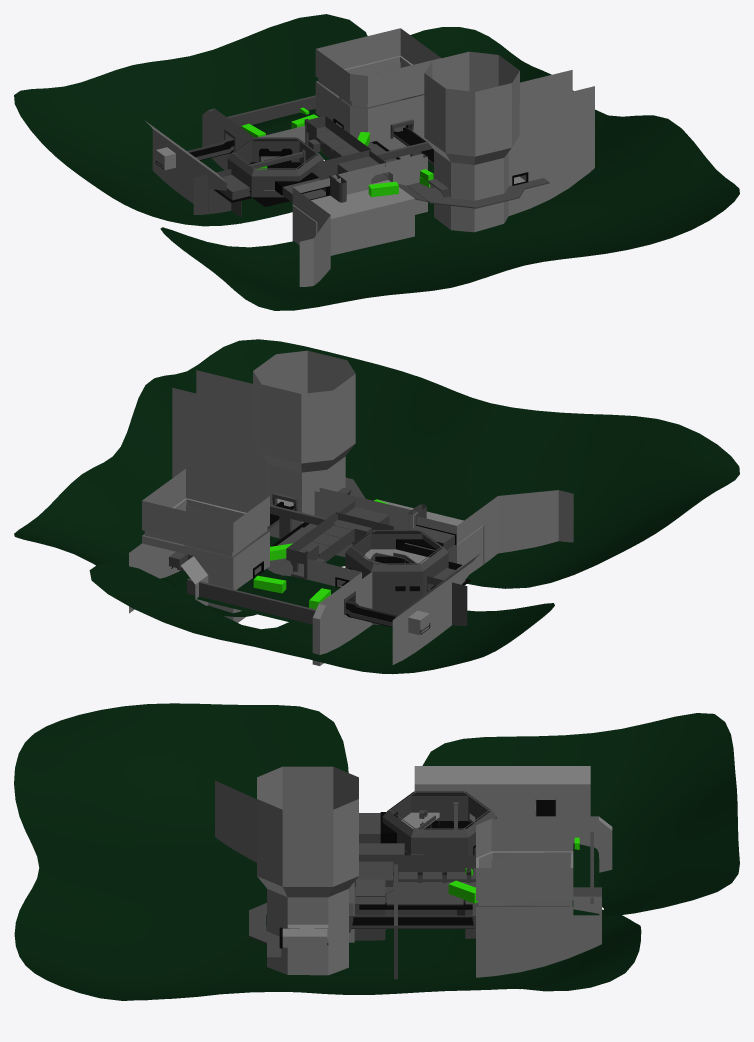
Rendered from map_powerStation.fbx.
3 renders of one model, top to bottom at view 1: azimuth 30°, elevation 25°; view 2: azimuth 150°, elevation 25°; view 3: azimuth 270°, elevation 25°, orthographic. The views are drawn at different scales.
Visible parts, largest first — view 1: mesh_map_powerStation.083, mesh_map_powerStation.012, mesh_map_powerStation.013, mesh_map_powerStation.082, mesh_map_powerStation.003, mesh_map_powerStation.054, mesh_map_powerStation.070, mesh_map_powerStation.010, mesh_map_powerStation.015, mesh_map_powerStation.014, mesh_map_powerStation.009, mesh_map_powerStation.007 (+6 smaller); view 2: mesh_map_powerStation.083, mesh_map_powerStation.003, mesh_map_powerStation.012, mesh_map_powerStation.082, mesh_map_powerStation.013, mesh_map_powerStation.070, mesh_map_powerStation.010, mesh_map_powerStation.015, mesh_map_powerStation.004, mesh_map_powerStation.019, mesh_map_powerStation.014, mesh_map_powerStation.009 (+3 smaller); view 3: mesh_map_powerStation.083, mesh_map_powerStation.012, mesh_map_powerStation.003, mesh_map_powerStation.082, mesh_map_powerStation.010, mesh_map_powerStation.070, mesh_map_powerStation, mesh_map_powerStation.015, mesh_map_powerStation.011, mesh_map_powerStation.004, mesh_map_powerStation.002, mesh_map_powerStation.007 (+6 smaller).
Boxes of the visible parts, x1,y1,x2,y2 form: mesh_map_powerStation.083: (14, 14, 739, 310); mesh_map_powerStation.012: (424, 51, 526, 232); mesh_map_powerStation.013: (508, 70, 594, 215); mesh_map_powerStation.082: (315, 28, 440, 115); mesh_map_powerStation.003: (145, 108, 354, 286); mesh_map_powerStation.054: (292, 187, 414, 255); mesh_map_powerStation.070: (227, 137, 323, 223); mesh_map_powerStation.010: (315, 86, 426, 158); mesh_map_powerStation.015: (306, 116, 371, 179); mesh_map_powerStation.014: (332, 153, 427, 214); mesh_map_powerStation.009: (193, 169, 249, 214); mesh_map_powerStation.007: (407, 178, 549, 208); mesh_map_powerStation.083: (14, 339, 739, 673); mesh_map_powerStation.003: (308, 490, 573, 674); mesh_map_powerStation.012: (253, 350, 355, 538); mesh_map_powerStation.082: (142, 468, 269, 565); mesh_map_powerStation.013: (172, 370, 265, 487); mesh_map_powerStation.070: (345, 530, 448, 625); mesh_map_powerStation.010: (129, 532, 269, 622); mesh_map_powerStation.015: (286, 512, 393, 578); mesh_map_powerStation.004: (175, 568, 339, 627); mesh_map_powerStation.019: (187, 578, 315, 624); mesh_map_powerStation.014: (314, 487, 417, 557); mesh_map_powerStation.009: (427, 568, 467, 625); mesh_map_powerStation.083: (14, 703, 739, 1000); mesh_map_powerStation.012: (257, 766, 358, 975); mesh_map_powerStation.003: (215, 766, 612, 872); mesh_map_powerStation.082: (476, 818, 573, 915); mesh_map_powerStation.010: (476, 866, 601, 977); mesh_map_powerStation.070: (382, 791, 496, 855); mesh_map_powerStation: (354, 882, 478, 940); mesh_map_powerStation.015: (393, 855, 475, 881); mesh_map_powerStation.011: (351, 917, 474, 928); mesh_map_powerStation.004: (572, 843, 599, 915); mesh_map_powerStation.002: (386, 890, 463, 905); mesh_map_powerStation.007: (249, 903, 281, 958).
Size of the model in its own units: 356 by 103 by 381.
